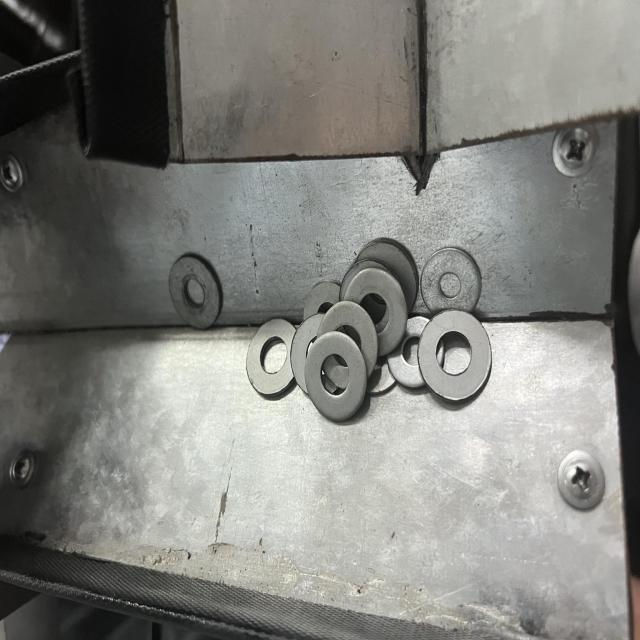washer: (417, 307, 493, 408), (306, 332, 367, 424), (169, 253, 224, 330)
